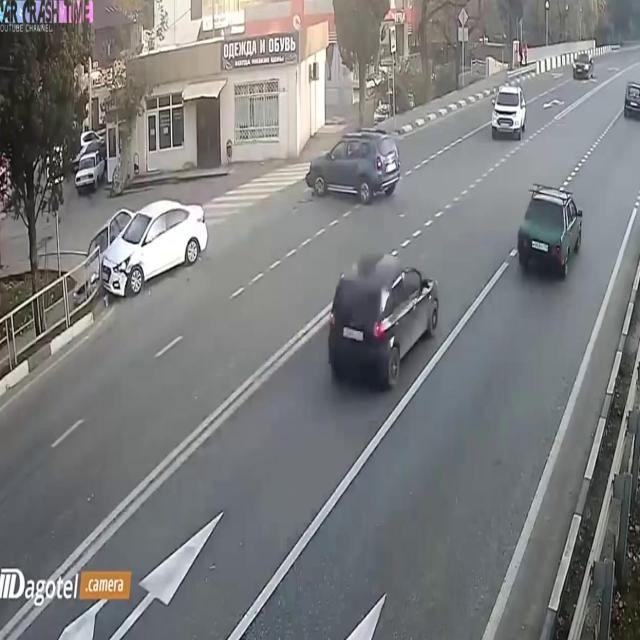accident: (80, 183, 212, 309)
